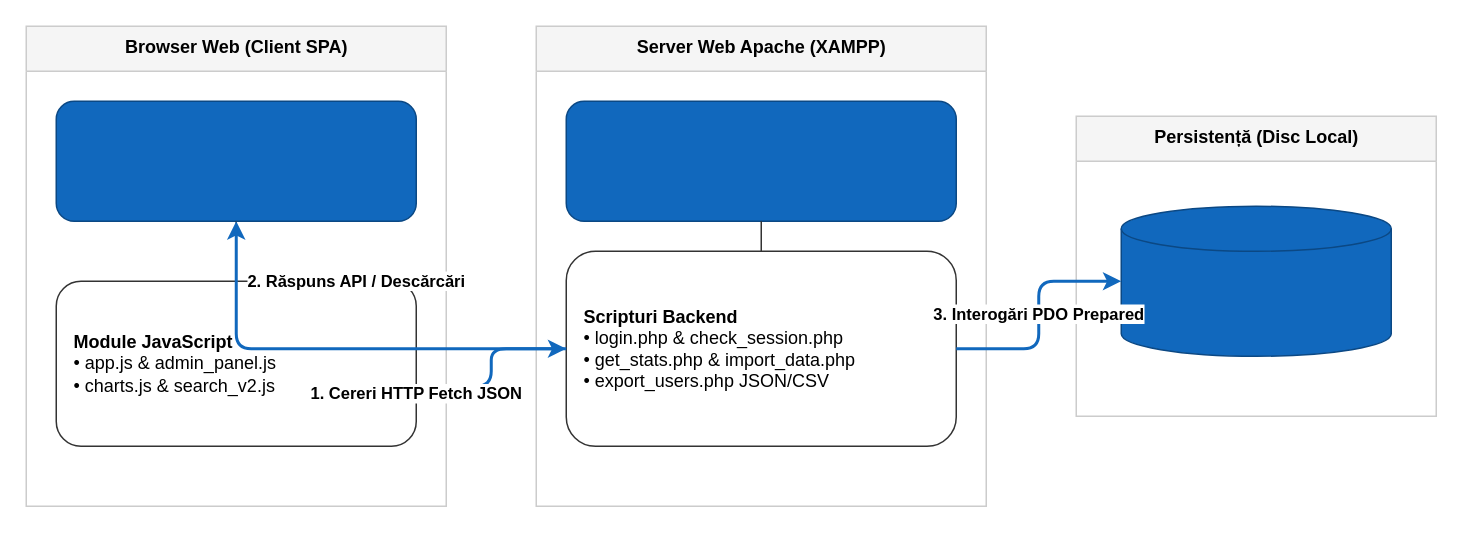
Image size: 1463x533. Some labels were removed from this diagram. The centre of each missing label's shape, as x and y in pixels:
"Bază de Date SQLite 3 data/awa.db" belongs at (1255,280).
"Interfață Nativă HTML5 / CSS3" belongs at (235,160).
"REST API PHP 8 Nativ" belongs at (760,160).
